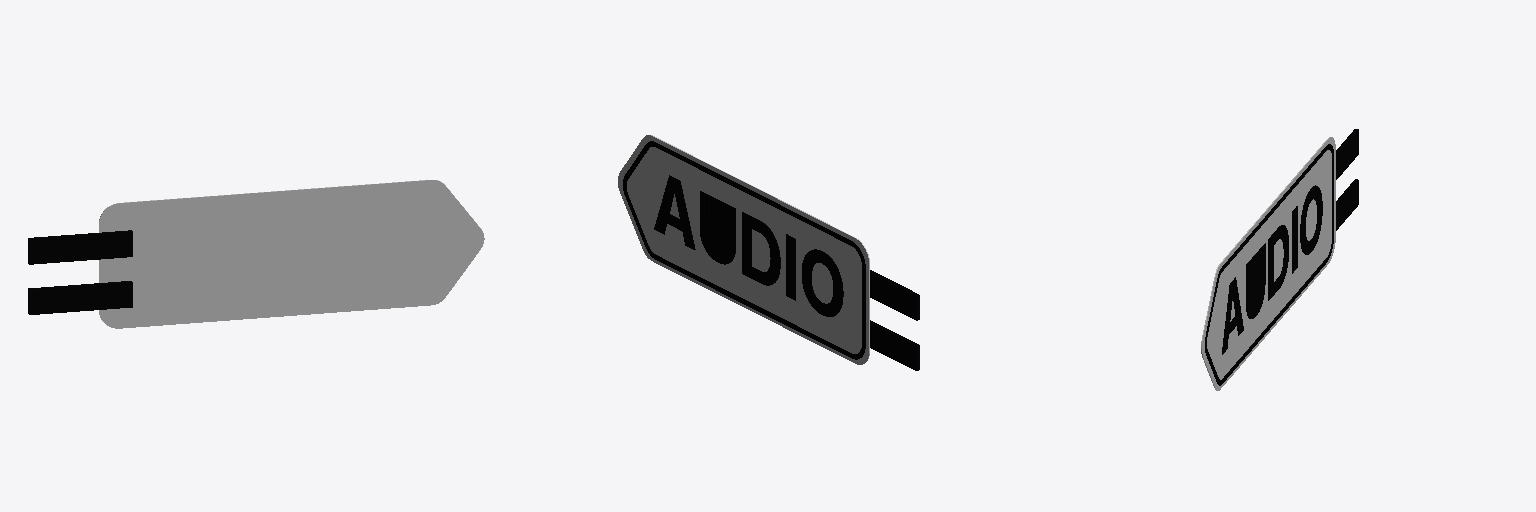
File: audio_sign_together.obj
3 views of the same model, side by side, from view 1: azimuth 30°, elevation 25°; view 2: azimuth 150°, elevation 25°; view 3: azimuth 270°, elevation 25° (orthographic).
Visible parts, largest first — view 1: b, a; view 2: b, a; view 3: b, a.
Part boxes in pixels (left/top/right/bottom): b: left=99, top=180, right=484, bottom=328; a: left=28, top=230, right=132, bottom=314; b: left=618, top=135, right=869, bottom=364; a: left=623, top=141, right=919, bottom=370; b: left=1201, top=137, right=1335, bottom=390; a: left=1205, top=129, right=1358, bottom=385.
Bounding box in the file's own units: 172 × 54.46 × 62.17.